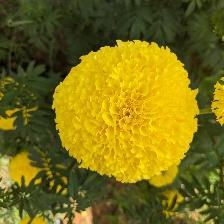marigold: (54, 38, 201, 186)
